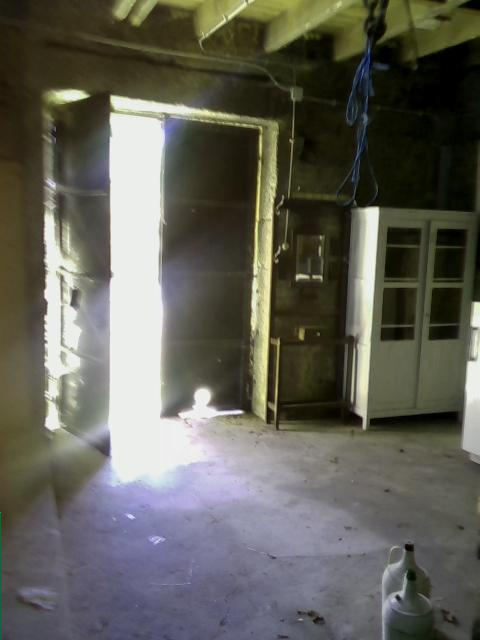semi_door: (28, 85, 281, 462)
